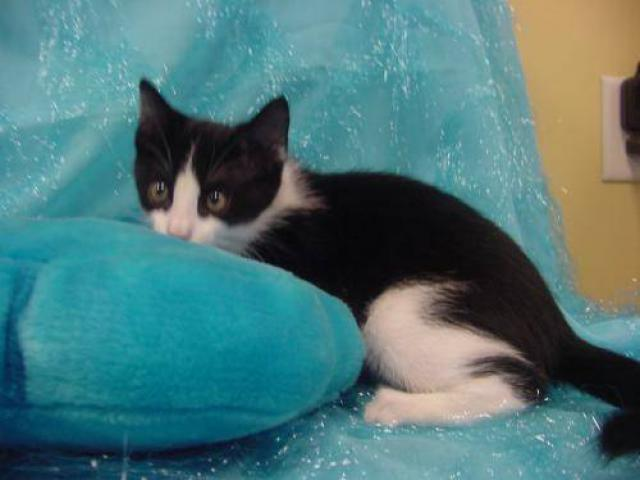cat: (127, 90, 624, 437)
